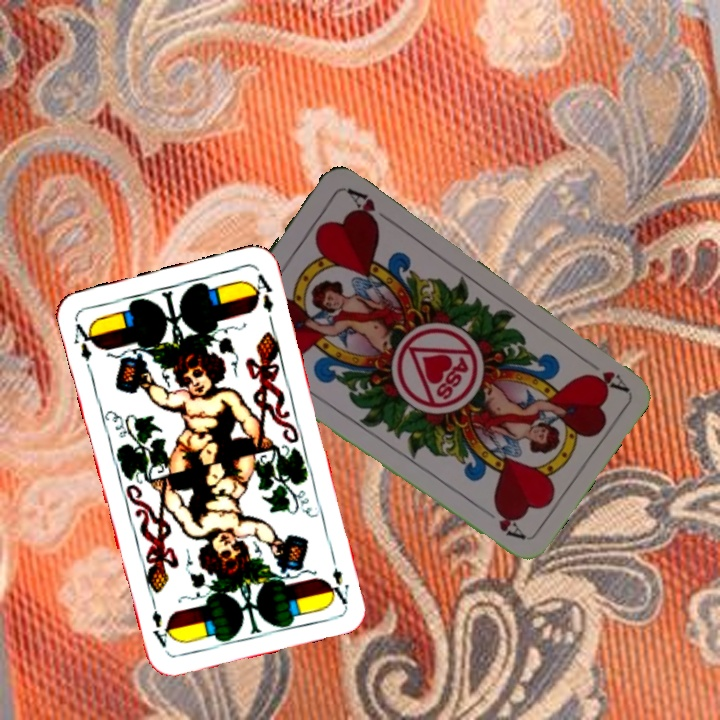EA: (324, 549, 352, 607), (70, 319, 99, 364)
HA: (577, 353, 630, 394)
